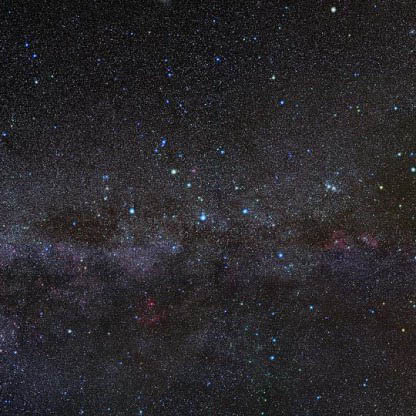Cassiopeia: (167, 160, 192, 194), (120, 199, 144, 223), (270, 243, 291, 268), (191, 208, 214, 226), (237, 201, 254, 222)
